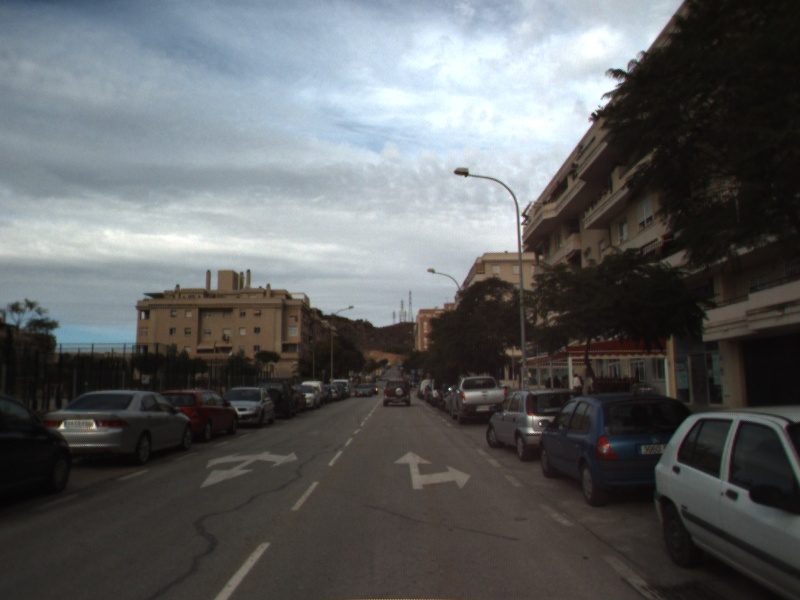STRAIGHT_RIGHT: (391, 449, 473, 491)
